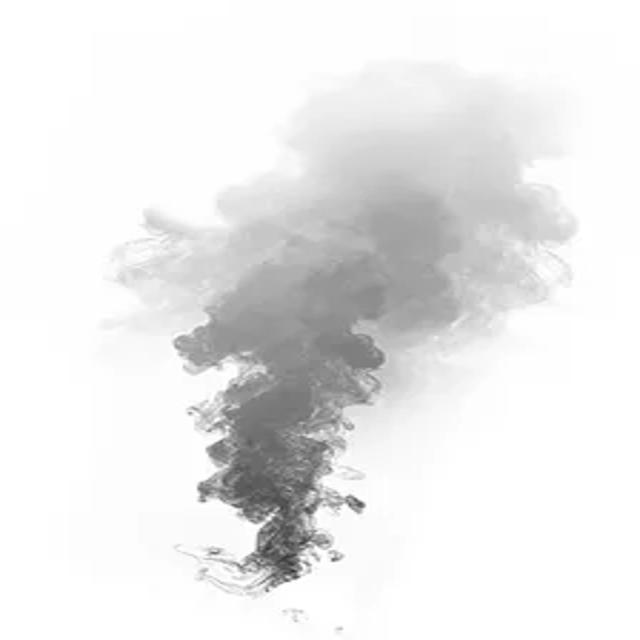Smoke: (108, 59, 577, 598)
